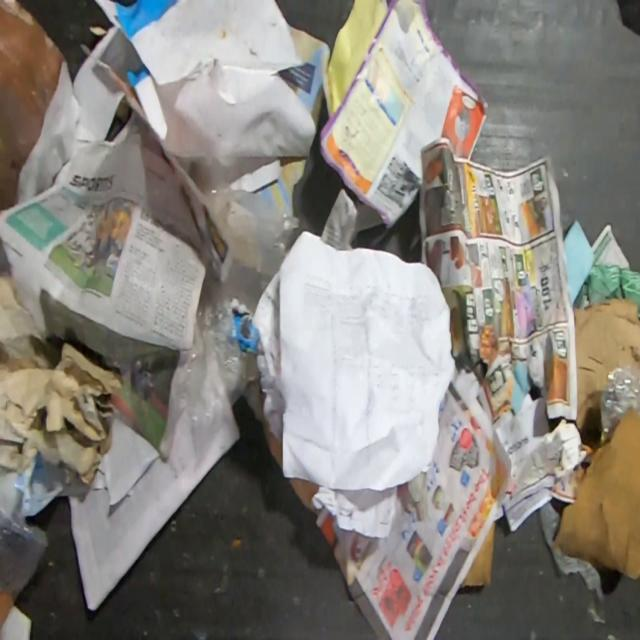cardboard: (553, 297, 640, 582), (538, 499, 604, 602), (572, 263, 639, 306), (460, 519, 497, 590)
soft_plastic: (157, 294, 250, 479), (198, 160, 318, 280), (0, 464, 52, 605), (598, 362, 640, 446)
